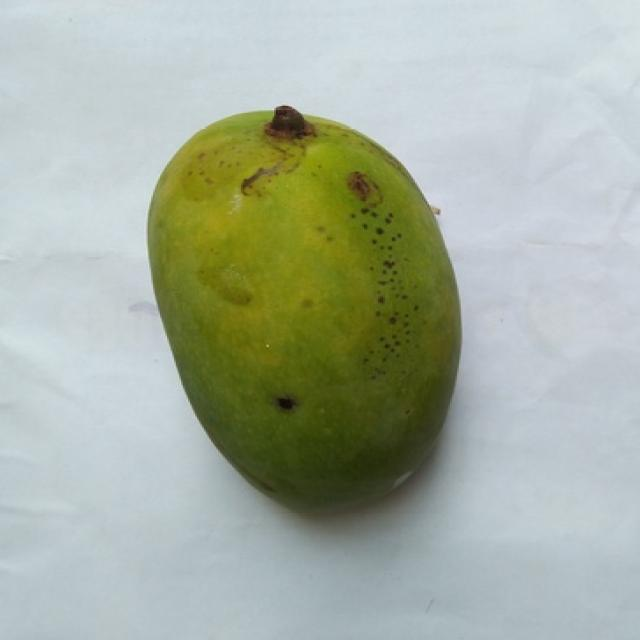Mango: (148, 111, 459, 511)
